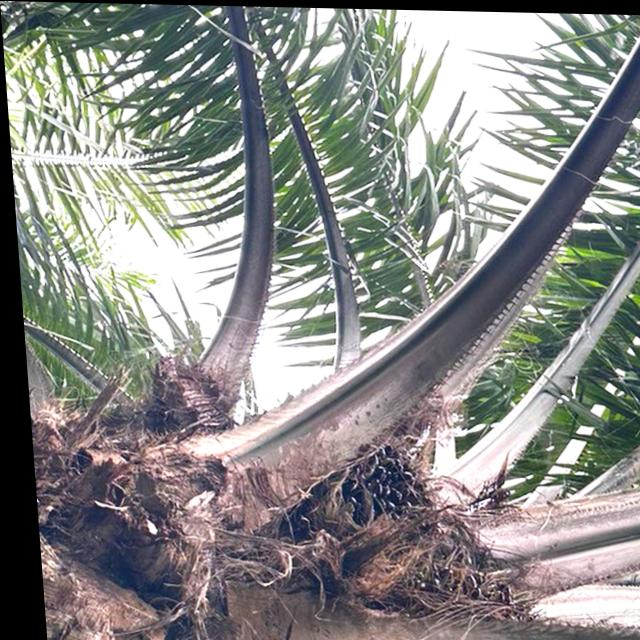unripe: (246, 421, 500, 627)
